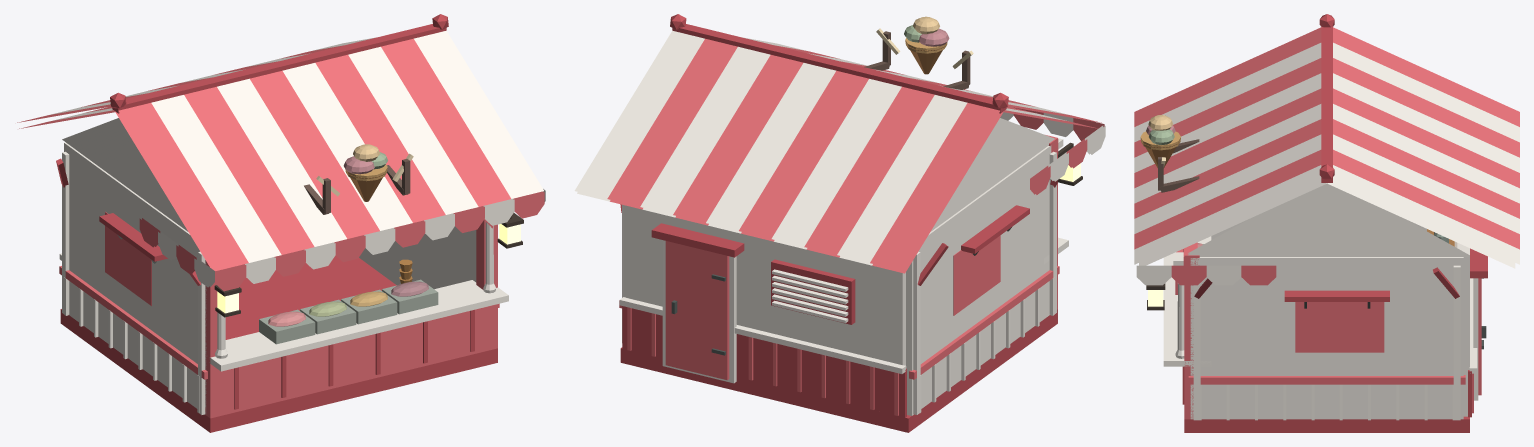
Rendered from kiosk-icecream.glb.
3 renders of one model, left to right at view 1: azimuth 30°, elevation 25°; view 2: azimuth 150°, elevation 25°; view 3: azimuth 270°, elevation 25°, orthographic. The views are drawn at different scales.
Parts seen in each view (by area): view 1: kiosk-icecream, Midway_counter_service_walls_and_joinery; view 2: kiosk-icecream, Midway_counter_service_walls_and_joinery; view 3: kiosk-icecream, Midway_counter_service_walls_and_joinery.
Boxes of the visible parts, <box> form: kiosk-icecream: <box>17,14,545,432</box>; Midway_counter_service_walls_and_joinery: <box>56,144,499,414</box>; kiosk-icecream: <box>574,14,1105,432</box>; Midway_counter_service_walls_and_joinery: <box>619,16,1063,417</box>; kiosk-icecream: <box>1134,14,1519,432</box>; Midway_counter_service_walls_and_joinery: <box>1140,115,1487,420</box>.
Size of the model in its own units: 5.85 by 4.81 by 6.08.
